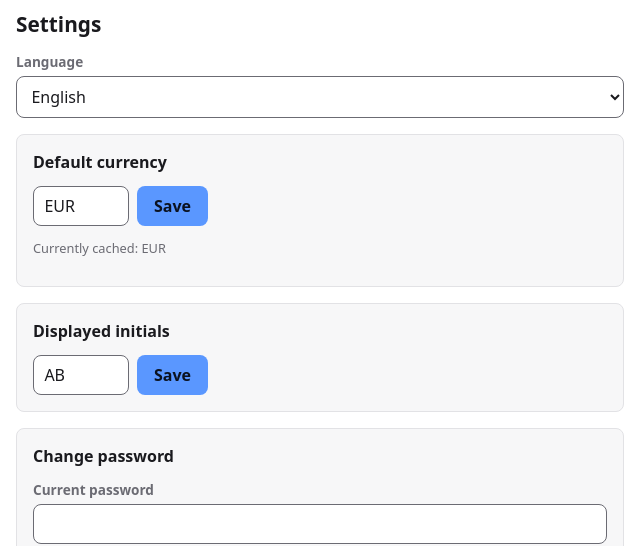
Scenario: SettingsPage forms read and announce like Android's (T-341) › announces a save's confirmation in its card, and a failure as an alert
Check: the field labelled "Displayed initials" holds "AB", box [33,355,129,395]
Click the button "Save" below "Default currency": {"x": 172, "y": 206} [137,186,208,226]
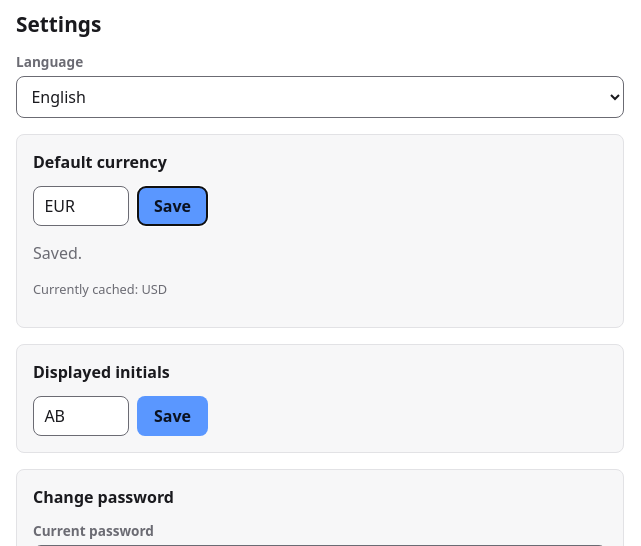
Check: the message reads "Saved.", box [33,242,82,264]
Click the button "Save" below "Displayed initials": {"x": 172, "y": 416} [137,396,208,436]
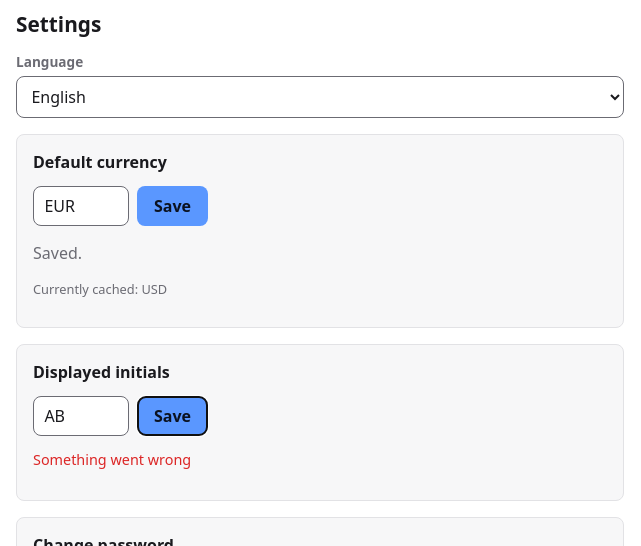
Check: the message "Something went wrong" is shown, box [33,450,191,469]
